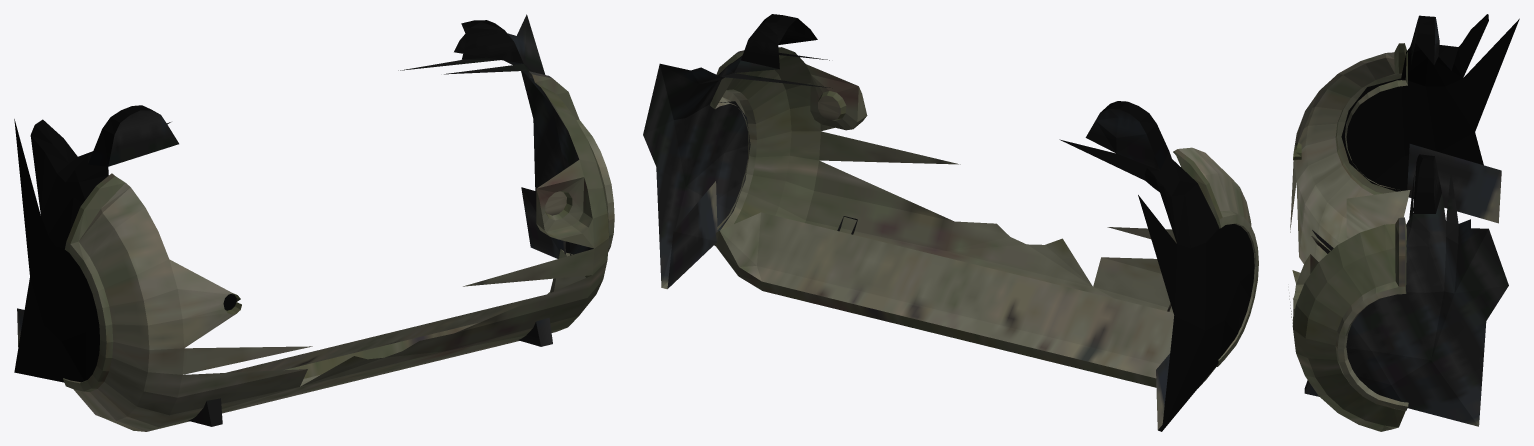
The model's file is pershing_hull_m5.obj.
3 renders of one model, left to right at view 1: azimuth 30°, elevation 25°; view 2: azimuth 150°, elevation 25°; view 3: azimuth 270°, elevation 25°, orthographic. The views are drawn at different scales.
Parts seen in each view (by area): view 1: pershing_hull_m5; view 2: pershing_hull_m5; view 3: pershing_hull_m5.
Boxes of the visible parts, box(x1,y1,x2,y2) form: pershing_hull_m5: box(14, 14, 614, 431); pershing_hull_m5: box(643, 14, 1258, 431); pershing_hull_m5: box(1289, 14, 1519, 431).
Bounding box in the file's own units: 1.53 × 0.8387 × 0.6867.
Materials: 1 (1 with a texture image).
